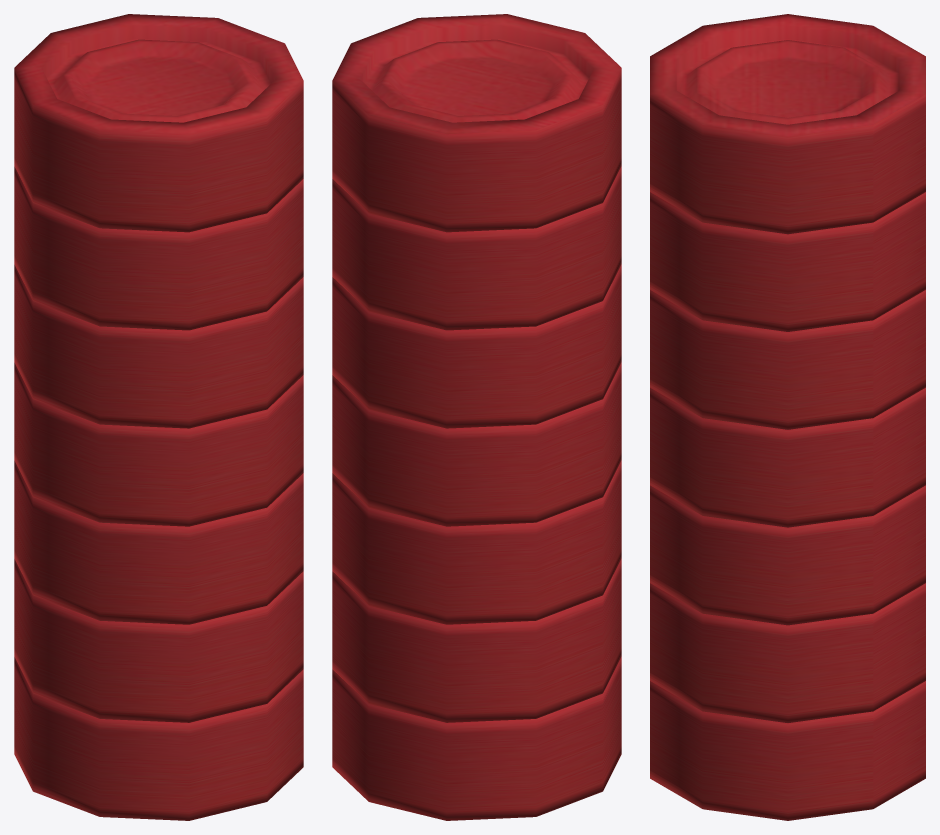
File: Stack_Red.gltf
3 views of the same model, side by side, from view 1: azimuth 30°, elevation 25°; view 2: azimuth 150°, elevation 25°; view 3: azimuth 270°, elevation 25° (orthographic).
Parts seen in each view (by area): view 1: RedChipStack; view 2: RedChipStack; view 3: RedChipStack.
Boxes of the visible parts, box(x1,y1,x2,y2) form: RedChipStack: box(14, 14, 303, 820); RedChipStack: box(332, 14, 621, 820); RedChipStack: box(650, 14, 925, 820).
Size of the model in its own units: 0.9232 by 2.4 by 0.878.
1 material, 1 textured.
